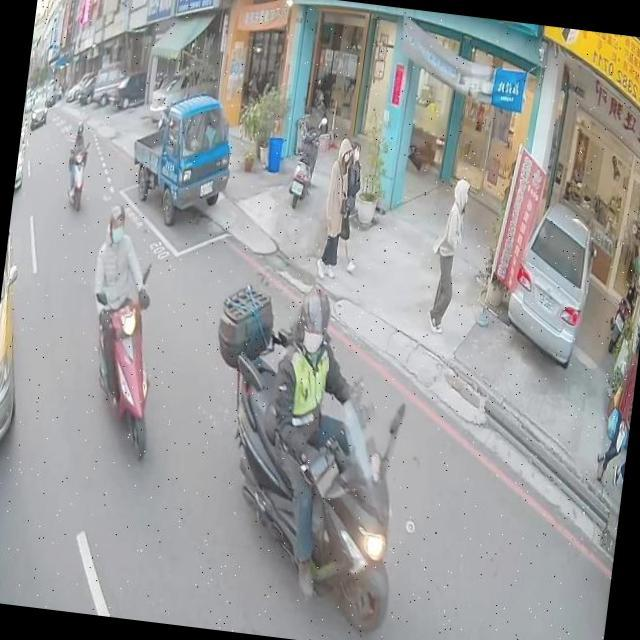person: (246, 278, 422, 608), (78, 202, 170, 425), (422, 170, 476, 334), (316, 137, 373, 276), (594, 325, 640, 491), (317, 136, 361, 279), (64, 119, 92, 208)
